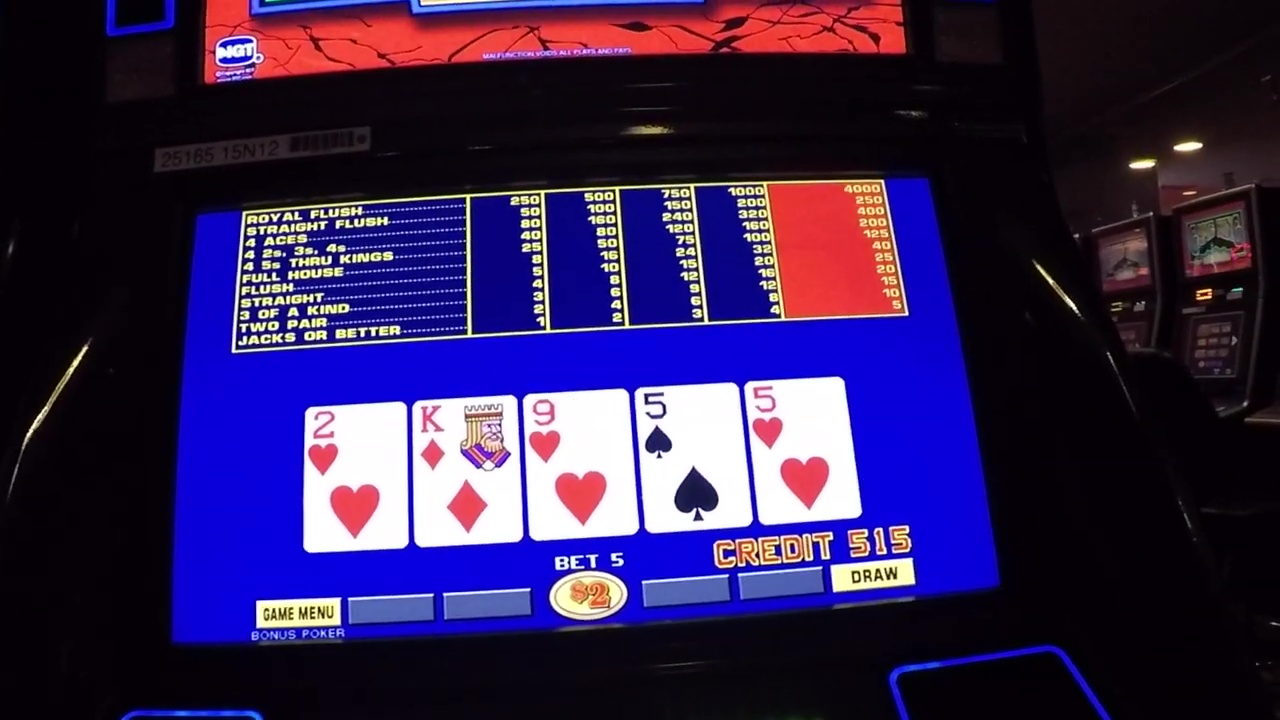DK: (415, 402, 518, 477)
H2: (310, 408, 407, 476)
H5: (753, 382, 849, 453)
H9: (527, 393, 628, 467)
S5: (639, 387, 736, 461)
